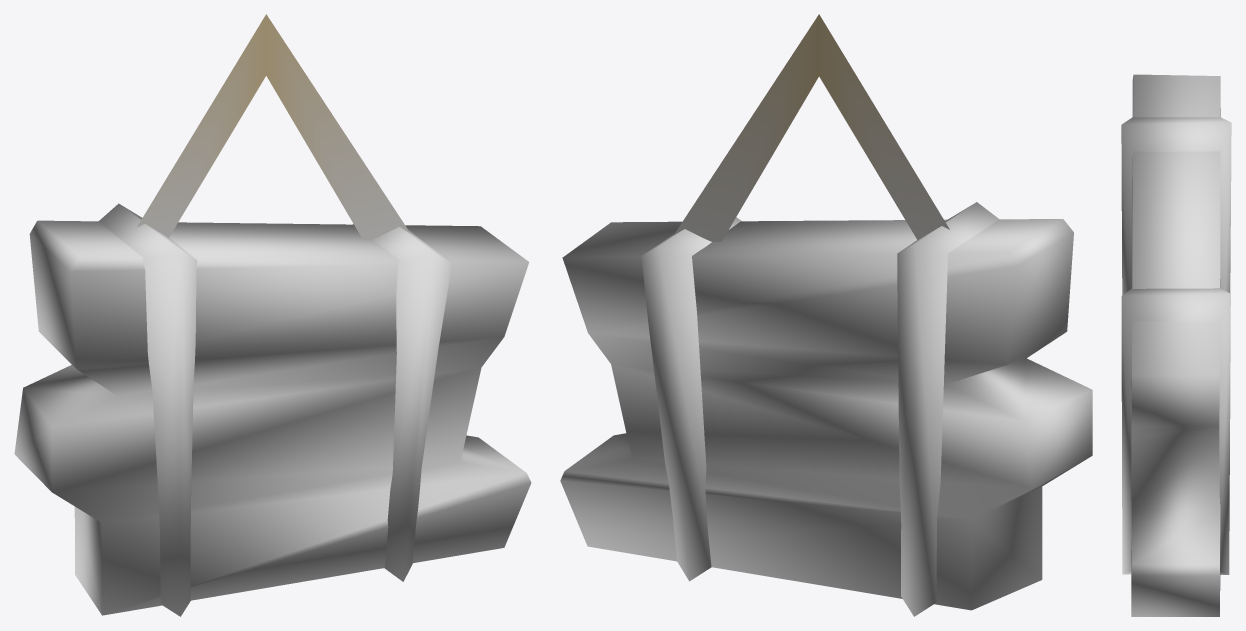
File: Props_C12_2.FBX
3 views of the same model, side by side, from view 1: azimuth 30°, elevation 25°; view 2: azimuth 150°, elevation 25°; view 3: azimuth 270°, elevation 25° (orthographic). The views are drawn at different scales.
Parts seen in each view (by area): view 1: Props_C12_2; view 2: Props_C12_2; view 3: Props_C12_2.
Boxes of the visible parts, <box> form: Props_C12_2: <box>14,14,531,616</box>; Props_C12_2: <box>560,14,1092,616</box>; Props_C12_2: <box>1121,74,1231,616</box>.
Size of the model in its own units: 124 by 141 by 27.33.
